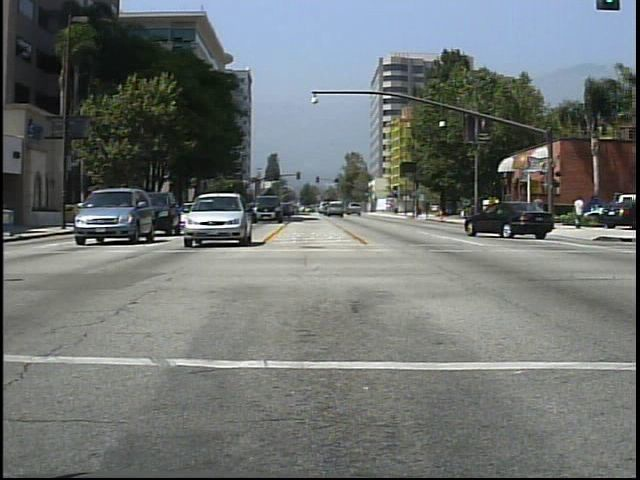person: (530, 192, 549, 232), (572, 193, 587, 235)
